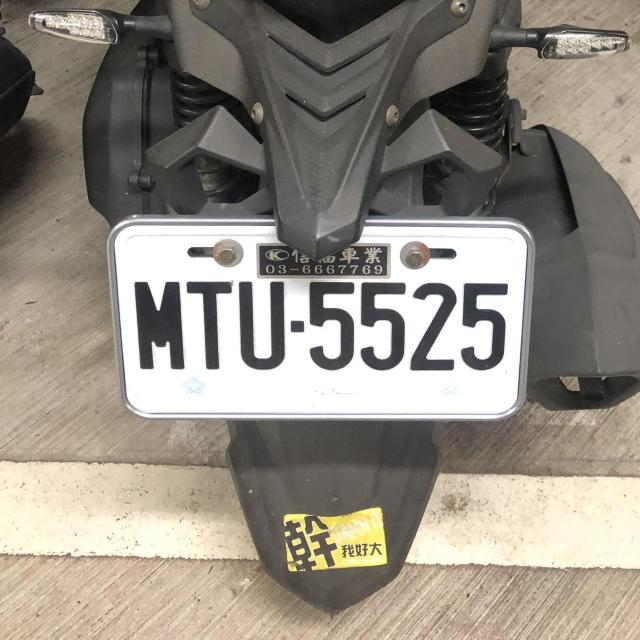W: (105, 217, 536, 434)
